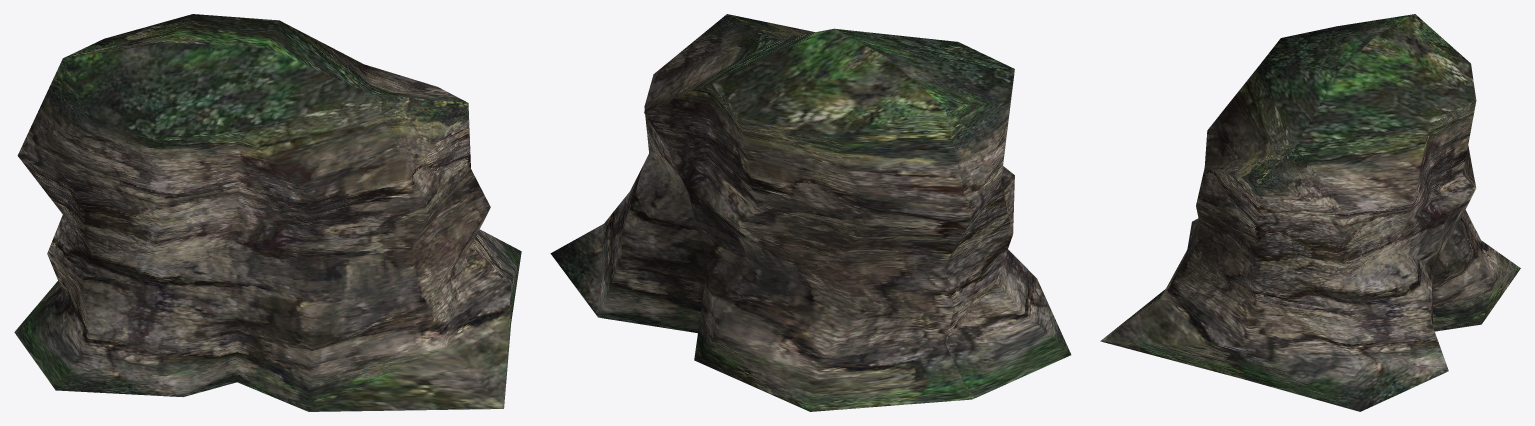
File: stone_cliff01_05.glb
The picture shows the model from 3 angles, left to right: view 1: azimuth 30°, elevation 25°; view 2: azimuth 150°, elevation 25°; view 3: azimuth 270°, elevation 25°; orthographic projection. The views are drawn at different scales.
Visible parts, largest first — view 1: stone_clif01_05; view 2: stone_clif01_05; view 3: stone_clif01_05.
Part boxes in pixels (x1,y1,x2,y2): stone_clif01_05: (14,14,521,411); stone_clif01_05: (550,14,1071,411); stone_clif01_05: (1100,14,1520,411).
Size of the model in its own units: 41.92 by 23.28 by 37.48.
1 material, 1 textured.
